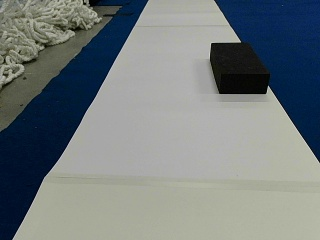block: (211, 42, 270, 94)
